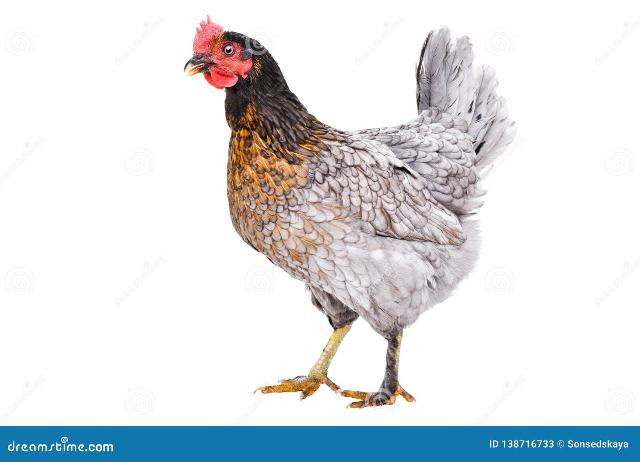Chicken: (185, 13, 517, 407)
